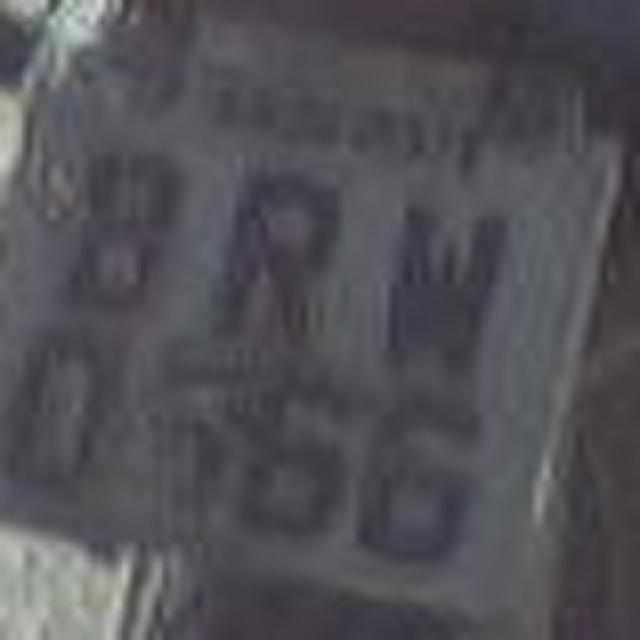0: (0, 312, 140, 520)
4: (92, 535, 200, 640)
6: (340, 400, 495, 580)
7: (115, 369, 240, 556), (60, 532, 155, 640)
9: (220, 380, 368, 565)
B: (48, 111, 192, 324)
P: (200, 149, 345, 356)
